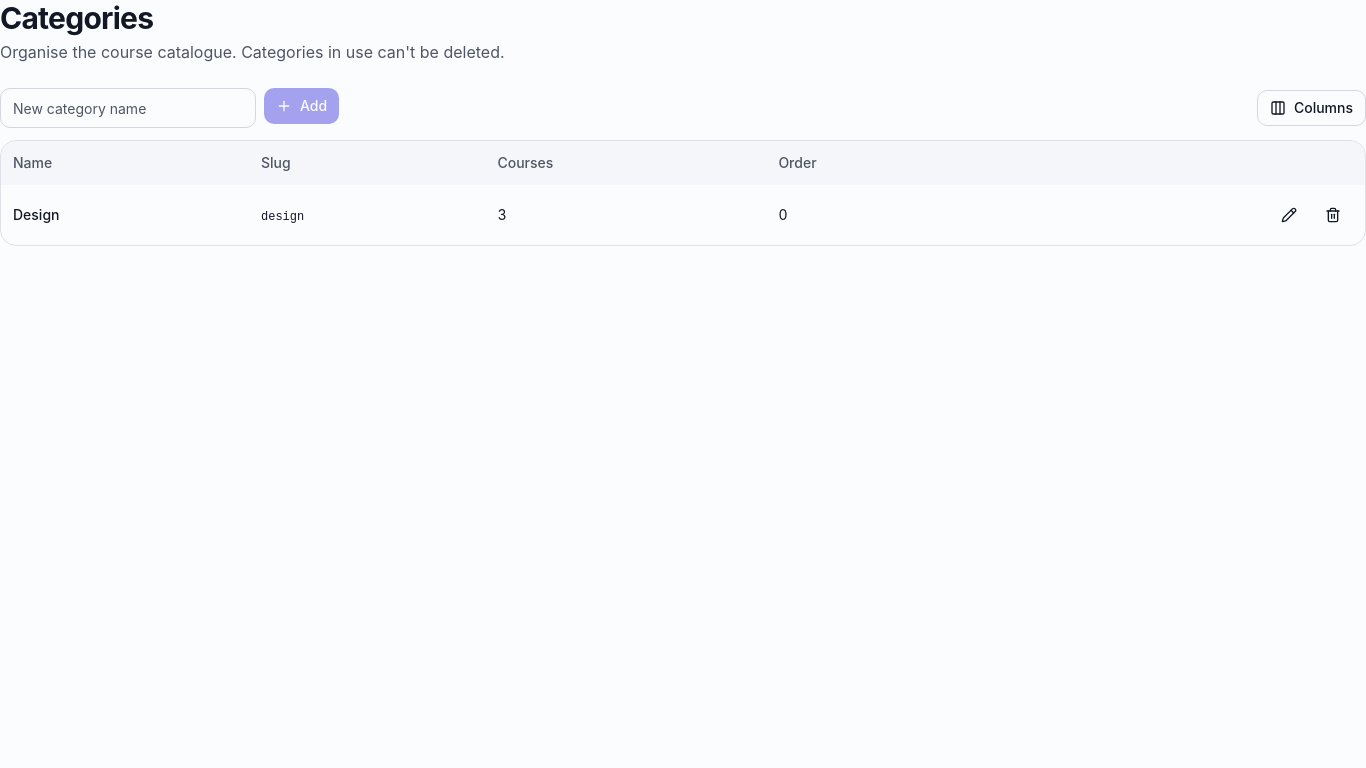
it: categories › shows the API error when a category in use cannot be deleted
Later steps or results of the test are not shown.
Click the button named "Delete Design". click: (1333, 215)
box: [1313, 197, 1353, 233]
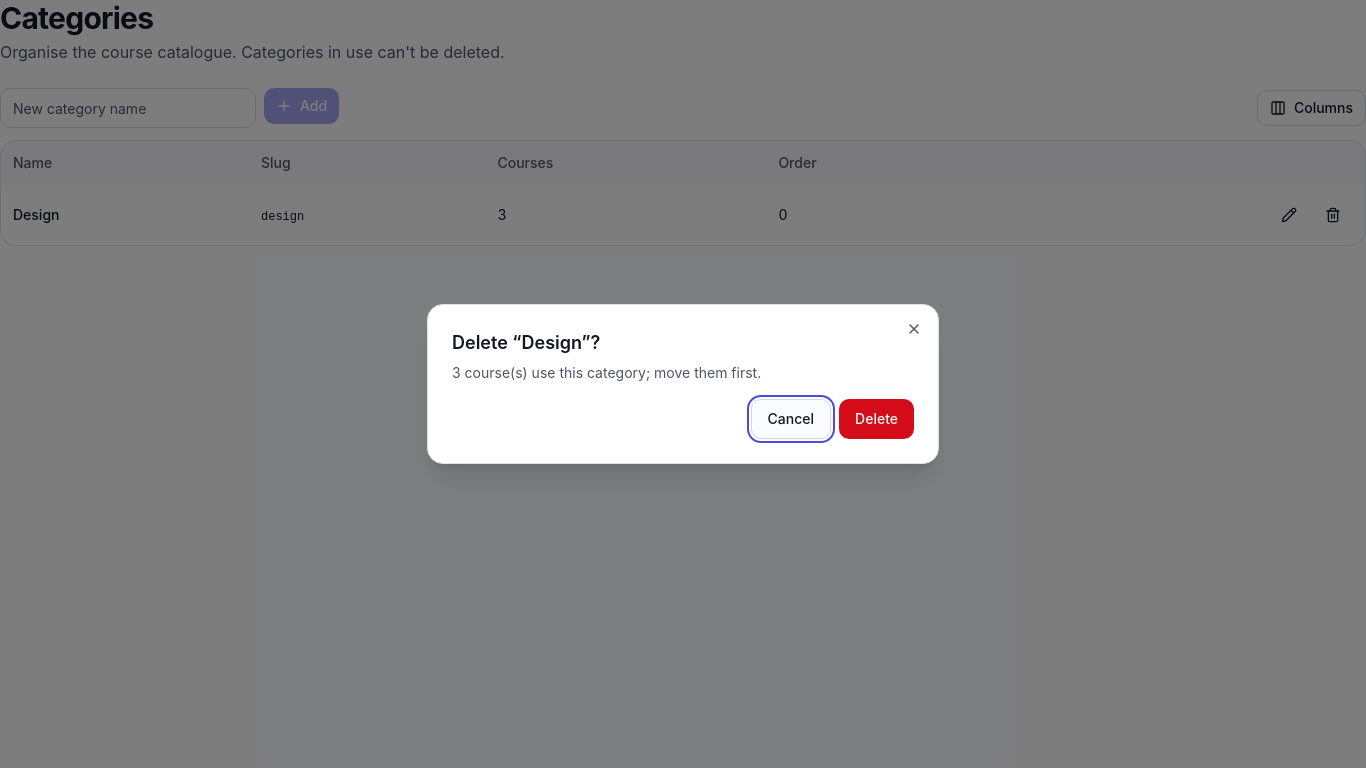
Now the text "3 course(s) use this category; move them first." is shown, box [452, 364, 761, 381]
